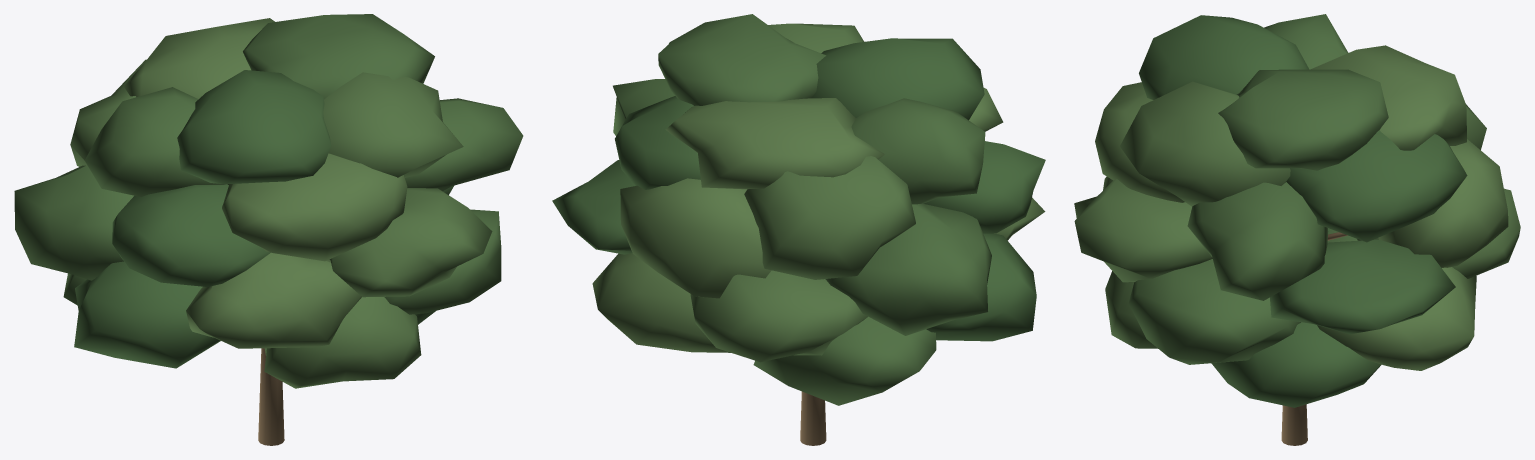
File: beech_0.glb
3 views of the same model, side by side, from view 1: azimuth 30°, elevation 25°; view 2: azimuth 150°, elevation 25°; view 3: azimuth 270°, elevation 25° (orthographic).
Parts seen in each view (by area): view 1: Beech canopy.064, Beech canopy.059, Beech canopy.051, Beech canopy.056, Beech canopy.062, Beech canopy.065, Beech canopy.054, Beech canopy.048, Beech canopy.053, Beech canopy.061, Beech canopy.046, Beech canopy.063 (+4 smaller); view 2: Beech canopy.058, Beech canopy.063, Beech canopy.053, Beech canopy.055, Beech canopy.065, Beech canopy.050, Beech canopy.064, Beech canopy.061, Beech canopy.045, Beech canopy.047, Beech canopy.048, Beech canopy.060 (+7 smaller); view 3: Beech canopy.065, Beech canopy.060, Beech canopy.052, Beech canopy.062, Beech canopy.057, Beech canopy.049, Beech canopy.054, Beech canopy.064, Beech canopy.063, Beech canopy.044, Beech canopy.055, Beech canopy.047 (+6 smaller).
Part boxes in pixels (bbox=[...]): Beech canopy.064: bbox=[177, 70, 331, 184]; Beech canopy.059: bbox=[222, 153, 407, 261]; Beech canopy.051: bbox=[186, 252, 361, 348]; Beech canopy.056: bbox=[112, 184, 270, 286]; Beech canopy.062: bbox=[323, 72, 463, 177]; Beech canopy.065: bbox=[243, 14, 434, 99]; Beech canopy.054: bbox=[330, 188, 492, 297]; Beech canopy.048: bbox=[74, 261, 220, 368]; Beech canopy.053: bbox=[14, 165, 133, 280]; Beech canopy.061: bbox=[84, 87, 225, 196]; Beech canopy.046: bbox=[264, 297, 421, 388]; Beech canopy.063: bbox=[123, 18, 274, 98]; Beech canopy.058: bbox=[744, 156, 915, 279]; Beech canopy.063: bbox=[665, 98, 884, 189]; Beech canopy.053: bbox=[825, 203, 991, 335]; Beech canopy.055: bbox=[620, 178, 771, 298]; Beech canopy.065: bbox=[658, 14, 826, 105]; Beech canopy.050: bbox=[690, 270, 867, 362]; Beech canopy.064: bbox=[811, 38, 984, 120]; Beech canopy.061: bbox=[851, 98, 985, 204]; Beech canopy.045: bbox=[753, 316, 936, 405]; Beech canopy.047: bbox=[592, 253, 730, 352]; Beech canopy.048: bbox=[926, 233, 1036, 341]; Beech canopy.060: bbox=[615, 96, 700, 189]; Beech canopy.065: bbox=[1218, 69, 1388, 170]; Beech canopy.060: bbox=[1286, 130, 1467, 242]; Beech canopy.052: bbox=[1270, 239, 1455, 334]; Beech canopy.062: bbox=[1120, 81, 1290, 206]; Beech canopy.057: bbox=[1187, 182, 1328, 300]; Beech canopy.049: bbox=[1128, 259, 1300, 364]; Beech canopy.054: bbox=[1074, 179, 1212, 282]; Beech canopy.064: bbox=[1139, 15, 1309, 99]; Beech canopy.063: bbox=[1310, 45, 1466, 150]; Beech canopy.044: bbox=[1211, 322, 1381, 407]; Beech canopy.055: bbox=[1378, 139, 1508, 267]; Beech canopy.047: bbox=[1317, 267, 1476, 370].
Bounding box in the file's own units: 10.68 × 9.21 × 9.48.
